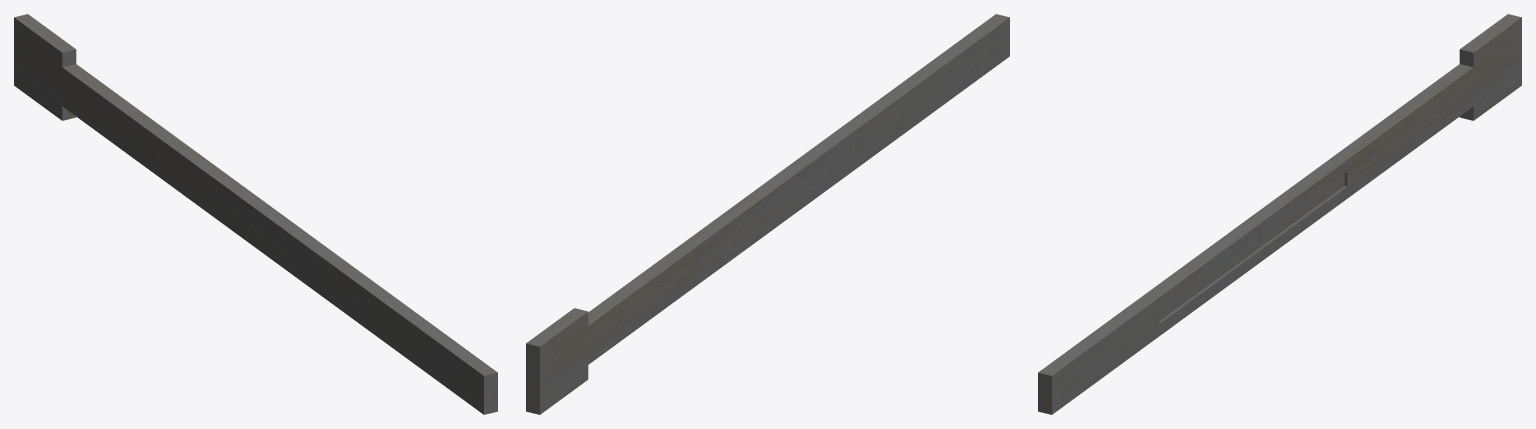
File: pendulum_rod.glb
3 views of the same model, side by side, from view 1: azimuth 30°, elevation 25°; view 2: azimuth 150°, elevation 25°; view 3: azimuth 330°, elevation 25° (orthographic).
Visible parts, largest first — view 1: world; view 2: world; view 3: world.
Boxes of the visible parts, x1,y1,x2,y2 form: world: (14, 14, 497, 414); world: (526, 14, 1009, 414); world: (1038, 14, 1521, 414).
Size of the model in its own units: 3 by 14 by 175.
1 material, 1 textured.
